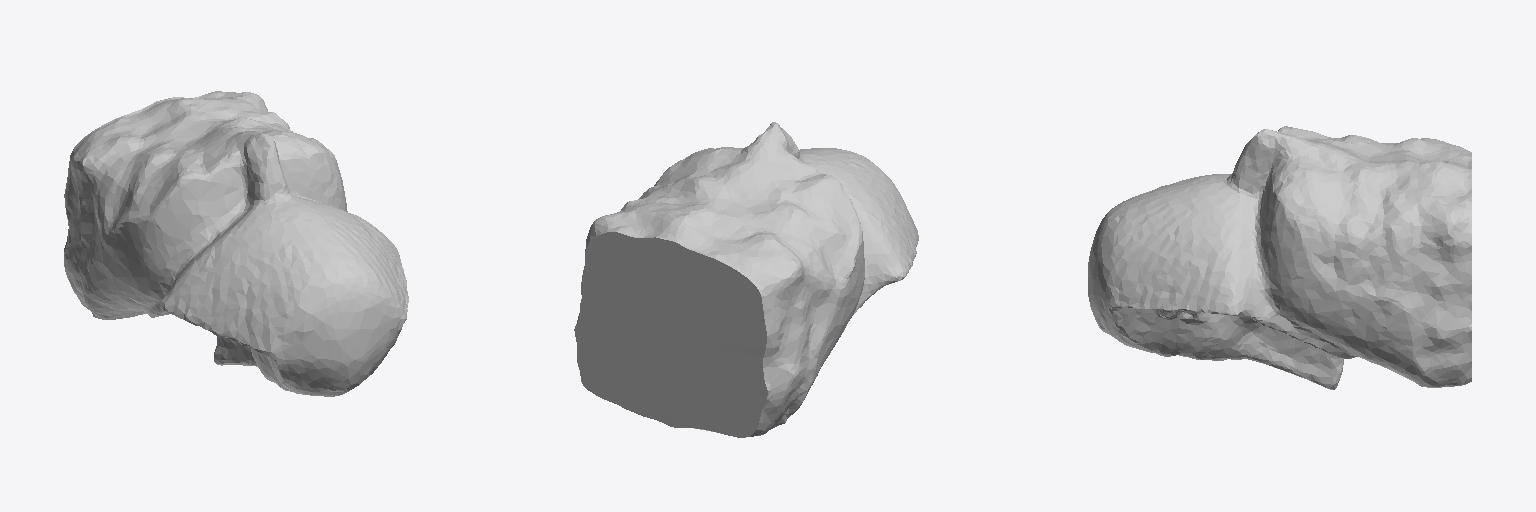
File: 73877-pharaoh_QEM_90pct.obj
3 views of the same model, side by side, from view 1: azimuth 30°, elevation 25°; view 2: azimuth 150°, elevation 25°; view 3: azimuth 270°, elevation 25° (orthographic).
Size of the model in its own units: 0.6913 by 0.727 by 0.9998.